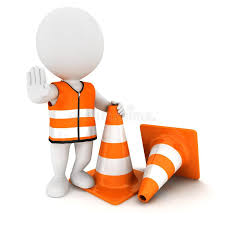cones: (81, 100, 143, 202), (132, 122, 204, 204)
